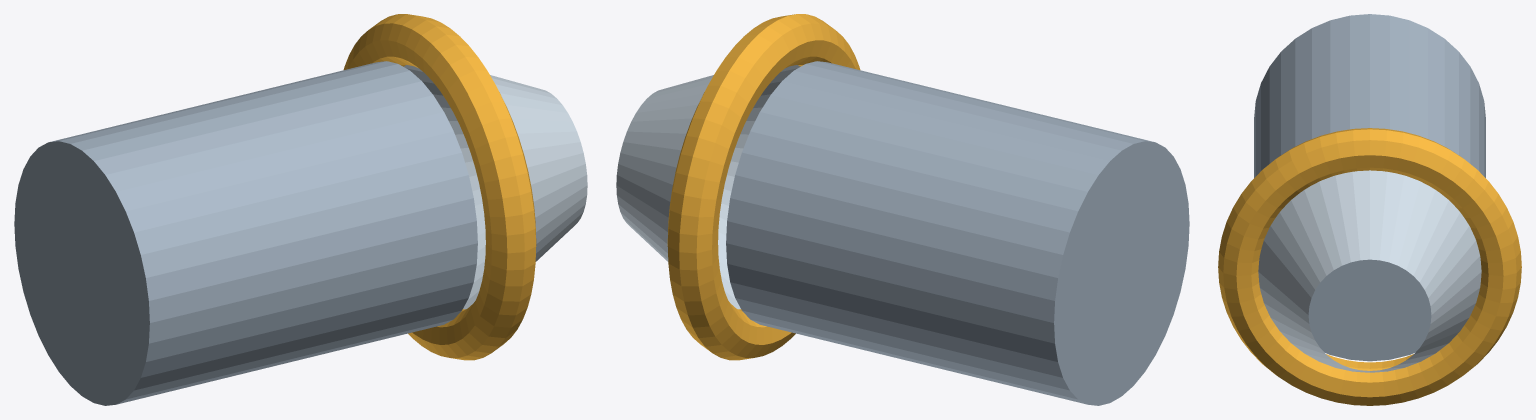
File: 19_L85_ServiceSpacecraftExtendableDockingProbe.fbx
The picture shows the model from 3 angles, left to right: view 1: azimuth 30°, elevation 25°; view 2: azimuth 150°, elevation 25°; view 3: azimuth 270°, elevation 25°; orthographic projection. The views are drawn at different scales.
Parts seen in each view (by area): view 1: L85_ServiceSpacecraftExtendableDockingPr_Part_0000, L85_ServiceSpacecraftExtendableDockingPr_Part_0001, L85_ServiceSpacecraftExtendableDockingPr_Part_0002; view 2: L85_ServiceSpacecraftExtendableDockingPr_Part_0000, L85_ServiceSpacecraftExtendableDockingPr_Part_0001, L85_ServiceSpacecraftExtendableDockingPr_Part_0002; view 3: L85_ServiceSpacecraftExtendableDockingPr_Part_0000, L85_ServiceSpacecraftExtendableDockingPr_Part_0001, L85_ServiceSpacecraftExtendableDockingPr_Part_0002.
Part boxes in pixels (box(x1,y1,x2,y2)): L85_ServiceSpacecraftExtendableDockingPr_Part_0000: box(14, 61, 477, 405); L85_ServiceSpacecraftExtendableDockingPr_Part_0001: box(343, 14, 536, 360); L85_ServiceSpacecraftExtendableDockingPr_Part_0002: box(403, 65, 587, 309); L85_ServiceSpacecraftExtendableDockingPr_Part_0000: box(726, 61, 1189, 405); L85_ServiceSpacecraftExtendableDockingPr_Part_0001: box(667, 14, 860, 360); L85_ServiceSpacecraftExtendableDockingPr_Part_0002: box(616, 65, 800, 309); L85_ServiceSpacecraftExtendableDockingPr_Part_0000: box(1254, 14, 1485, 361); L85_ServiceSpacecraftExtendableDockingPr_Part_0001: box(1218, 128, 1521, 405); L85_ServiceSpacecraftExtendableDockingPr_Part_0002: box(1258, 170, 1481, 372).
Size of the model in its own units: 136 by 89 by 89.
